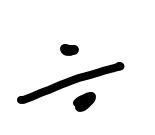div: (18, 44, 125, 113)
